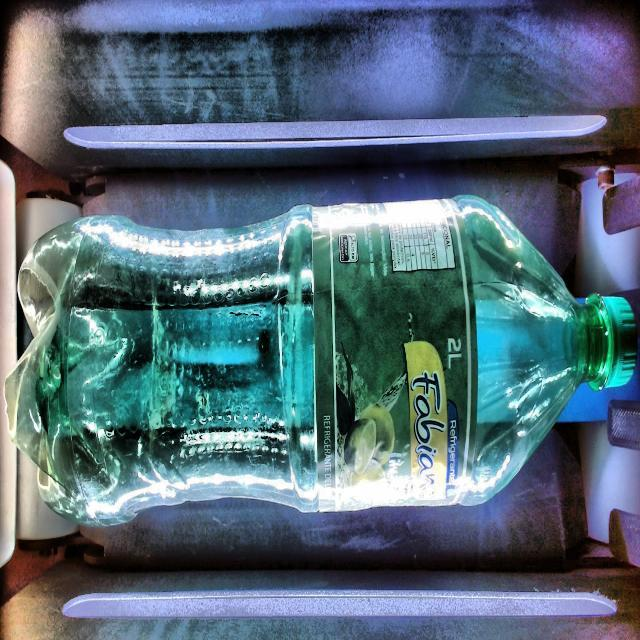bottom: (6, 206, 315, 525)
label: (312, 200, 478, 511)
neck: (456, 198, 638, 504)
